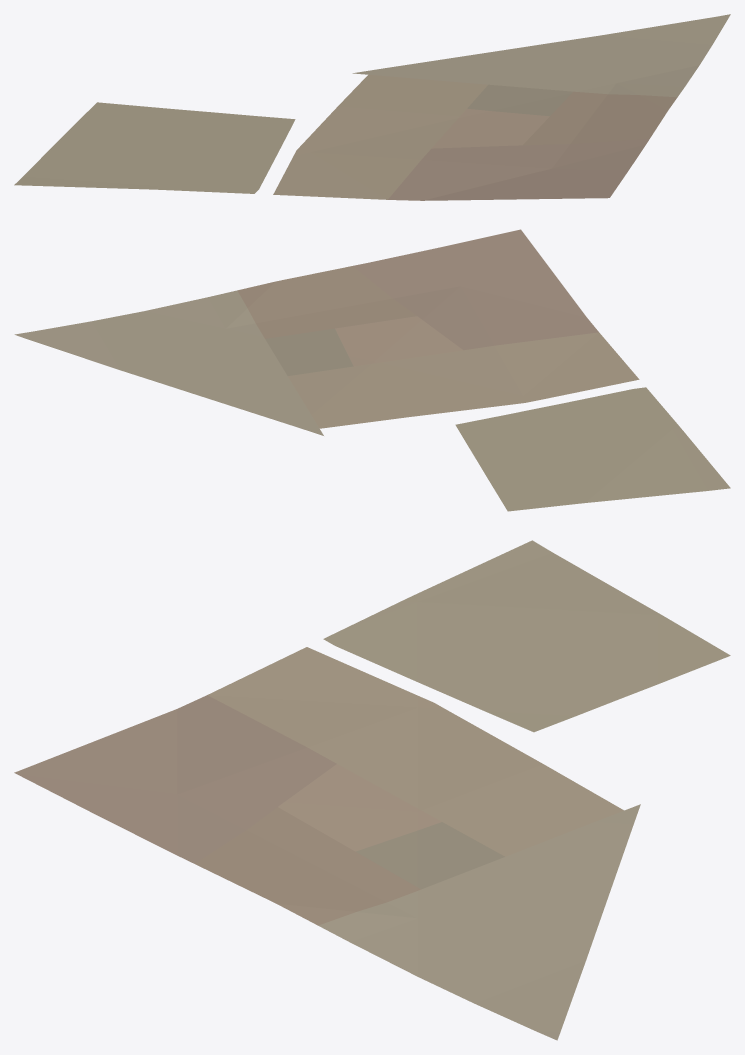
The model's file is farm_-6_4_soil.glb.
The picture shows the model from 3 angles, top to bottom: view 1: azimuth 30°, elevation 25°; view 2: azimuth 150°, elevation 25°; view 3: azimuth 270°, elevation 25°; orthographic projection. The views are drawn at different scales.
Visible parts, largest first — view 1: geometry_0; view 2: geometry_0; view 3: geometry_0.
Boxes of the visible parts, left/top/right/bottom form: geometry_0: left=14, top=14, right=730, bottom=200; geometry_0: left=14, top=229, right=730, bottom=511; geometry_0: left=14, top=540, right=730, bottom=1040.
Size of the model in its own units: 380 by 20.18 by 239.
